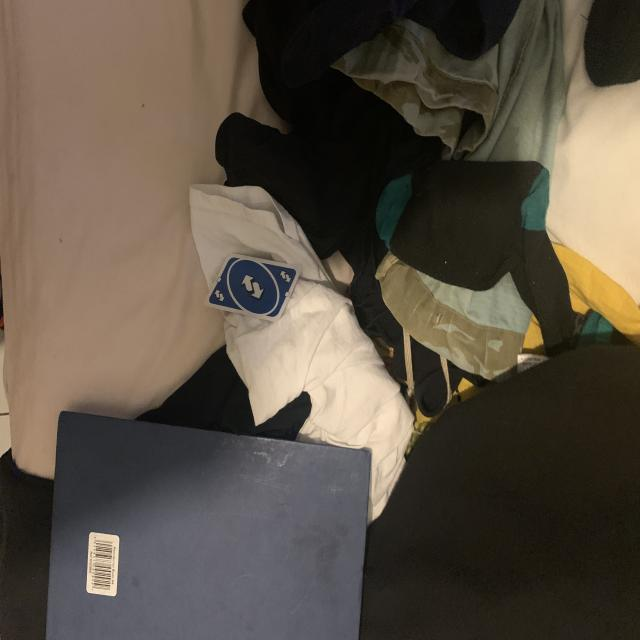lbluerevers-20: (212, 288, 228, 306)
